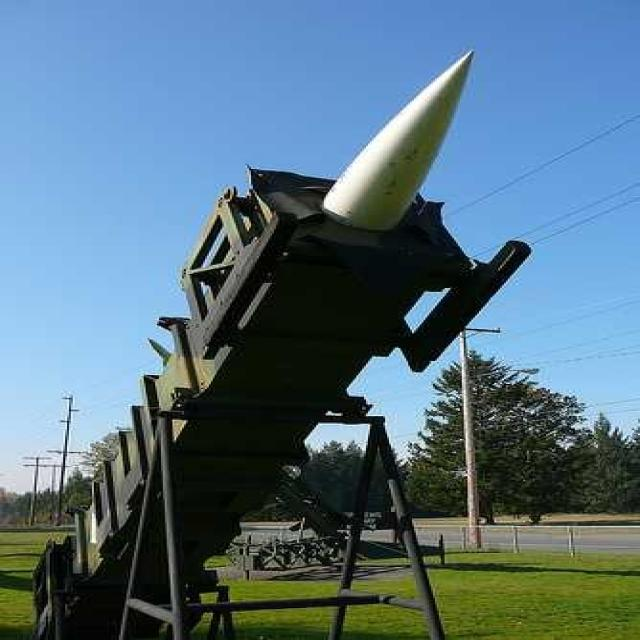missile: (71, 51, 480, 565)
